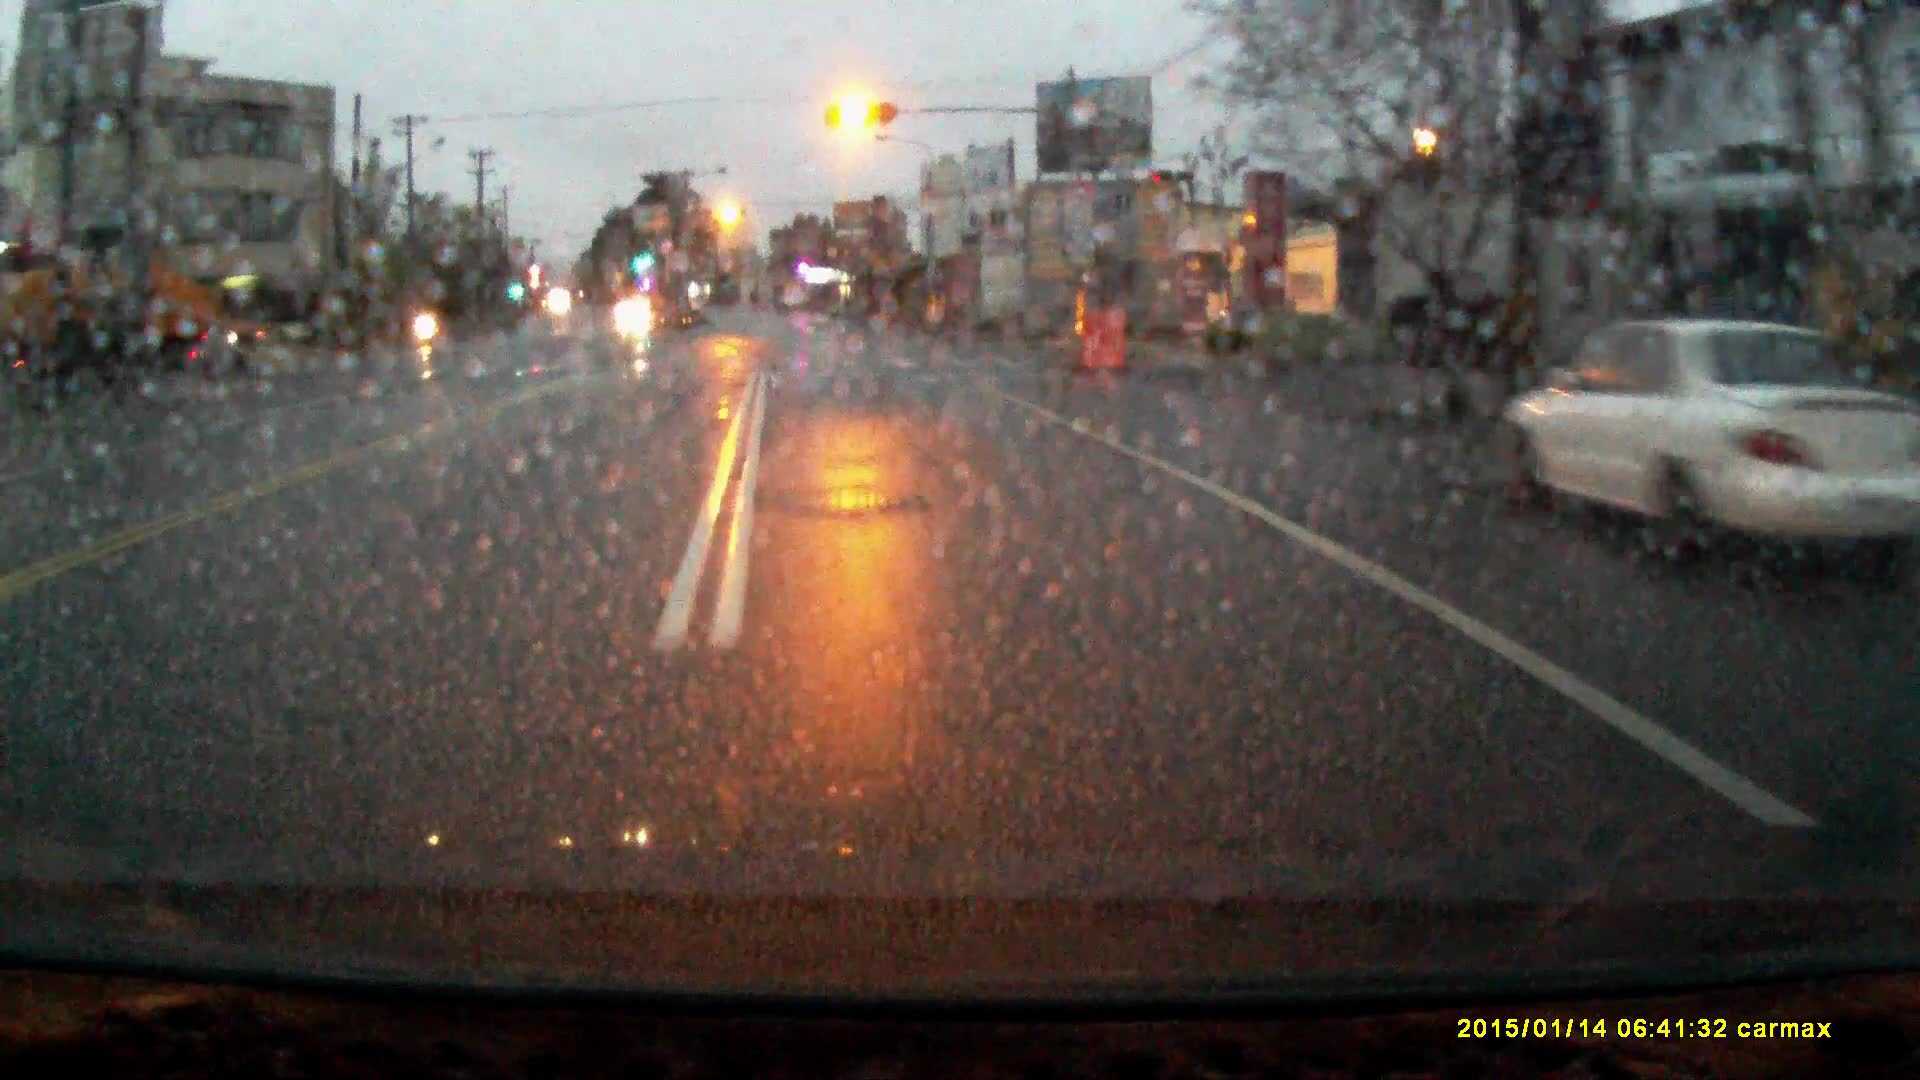rider: (413, 287, 442, 352)
vehicle: (1489, 318, 1901, 552), (1, 258, 239, 383), (615, 297, 653, 329)
